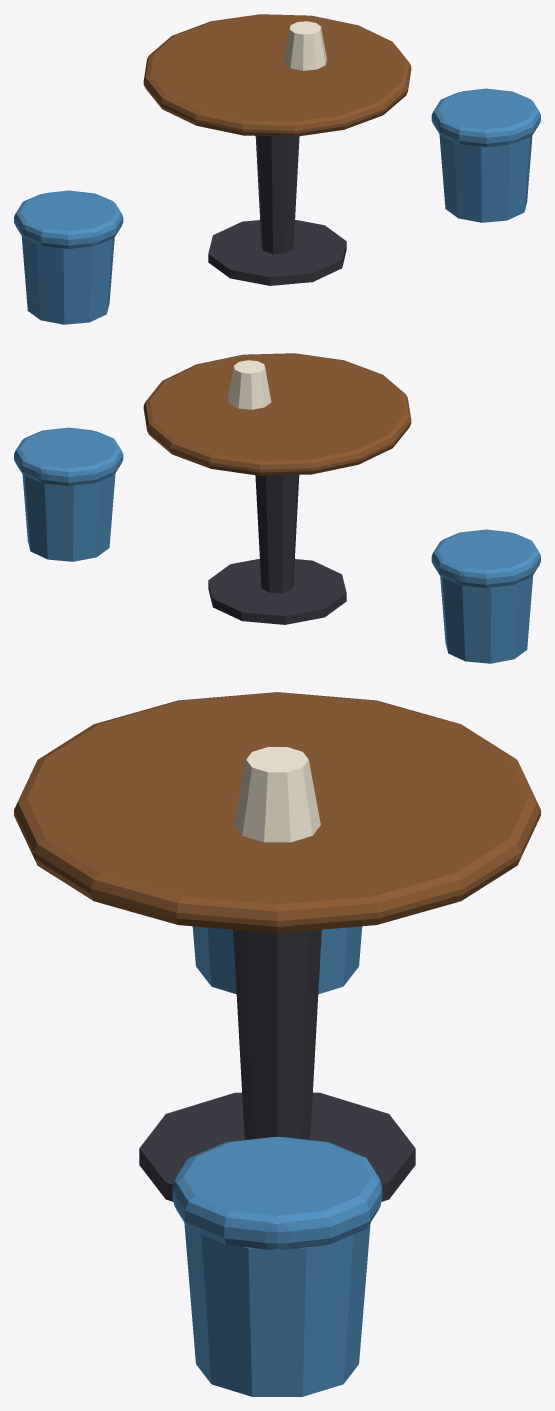
Rendered from ban-cafe.glb.
3 views of the same model, one above another, from view 1: azimuth 30°, elevation 25°; view 2: azimuth 150°, elevation 25°; view 3: azimuth 270°, elevation 25° (orthographic). The views are drawn at different scales.
Parts seen in each view (by area): view 1: ban-cafe-0, ban-cafe-7, ban-cafe-5, ban-cafe-2, ban-cafe-4, ban-cafe-6, ban-cafe-1, ban-cafe-3; view 2: ban-cafe-0, ban-cafe-7, ban-cafe-5, ban-cafe-2, ban-cafe-4, ban-cafe-6, ban-cafe-1, ban-cafe-3; view 3: ban-cafe-0, ban-cafe-7, ban-cafe-6, ban-cafe-1, ban-cafe-2, ban-cafe-3, ban-cafe-5.
Boxes of the visible parts, x1=… form: ban-cafe-0: x1=143, y1=14, x2=411, y2=136; ban-cafe-7: x1=439, y1=134, x2=532, y2=222; ban-cafe-5: x1=21, y1=236, x2=114, y2=324; ban-cafe-2: x1=208, y1=219, x2=346, y2=285; ban-cafe-4: x1=14, y1=190, x2=123, y2=248; ban-cafe-6: x1=431, y1=88, x2=540, y2=146; ban-cafe-1: x1=255, y1=136, x2=299, y2=254; ban-cafe-3: x1=283, y1=21, x2=326, y2=70; ban-cafe-0: x1=143, y1=353, x2=411, y2=475; ban-cafe-7: x1=22, y1=473, x2=115, y2=561; ban-cafe-5: x1=440, y1=575, x2=533, y2=663; ban-cafe-2: x1=208, y1=558, x2=346, y2=624; ban-cafe-4: x1=431, y1=529, x2=540, y2=587; ban-cafe-6: x1=14, y1=427, x2=123, y2=485; ban-cafe-1: x1=255, y1=475, x2=299, y2=593; ban-cafe-3: x1=228, y1=360, x2=271, y2=409; ban-cafe-0: x1=14, y1=692, x2=540, y2=933; ban-cafe-7: x1=184, y1=1223, x2=370, y2=1396; ban-cafe-6: x1=172, y1=1137, x2=382, y2=1250; ban-cafe-1: x1=233, y1=929, x2=321, y2=1139; ban-cafe-2: x1=139, y1=1092, x2=415, y2=1201; ban-cafe-3: x1=234, y1=747, x2=320, y2=842; ban-cafe-5: x1=192, y1=926, x2=362, y2=994.
Size of the model in its own units: 1.83 by 0.76 by 0.84.
